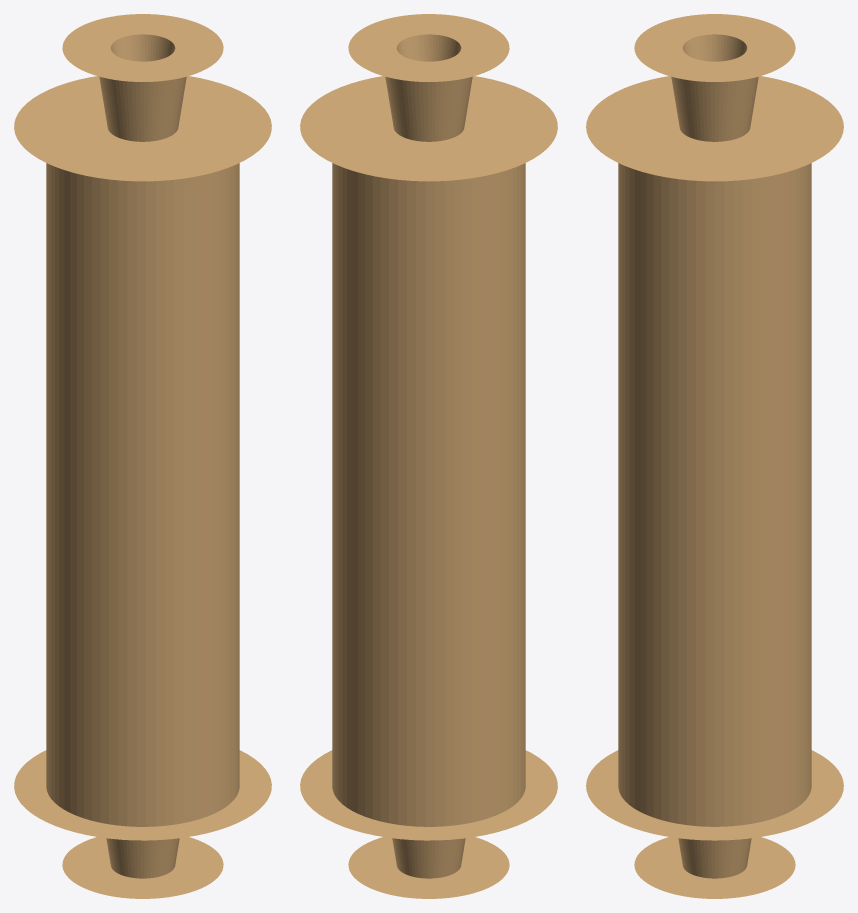
Rendered from board.glb.
The picture shows the model from 3 angles, left to right: view 1: azimuth 30°, elevation 25°; view 2: azimuth 150°, elevation 25°; view 3: azimuth 270°, elevation 25°; orthographic projection.
Parts seen in each view (by area): view 1: Unified_Via_1, Unified_Via_0, Unified_Via_2; view 2: Unified_Via_1, Unified_Via_0, Unified_Via_2; view 3: Unified_Via_1, Unified_Via_0, Unified_Via_2.
Part boxes in pixels (x1=…): Unified_Via_1: x1=14, y1=76, x2=271, y2=840; Unified_Via_0: x1=62, y1=14, x2=223, y2=141; Unified_Via_2: x1=62, y1=837, x2=223, y2=898; Unified_Via_1: x1=300, y1=76, x2=557, y2=840; Unified_Via_0: x1=348, y1=14, x2=509, y2=141; Unified_Via_2: x1=348, y1=837, x2=509, y2=898; Unified_Via_1: x1=586, y1=76, x2=843, y2=840; Unified_Via_0: x1=634, y1=14, x2=795, y2=141; Unified_Via_2: x1=634, y1=837, x2=795, y2=898.
Bounding box in the file's own units: 0.0004 × 0.0014 × 0.0004.
